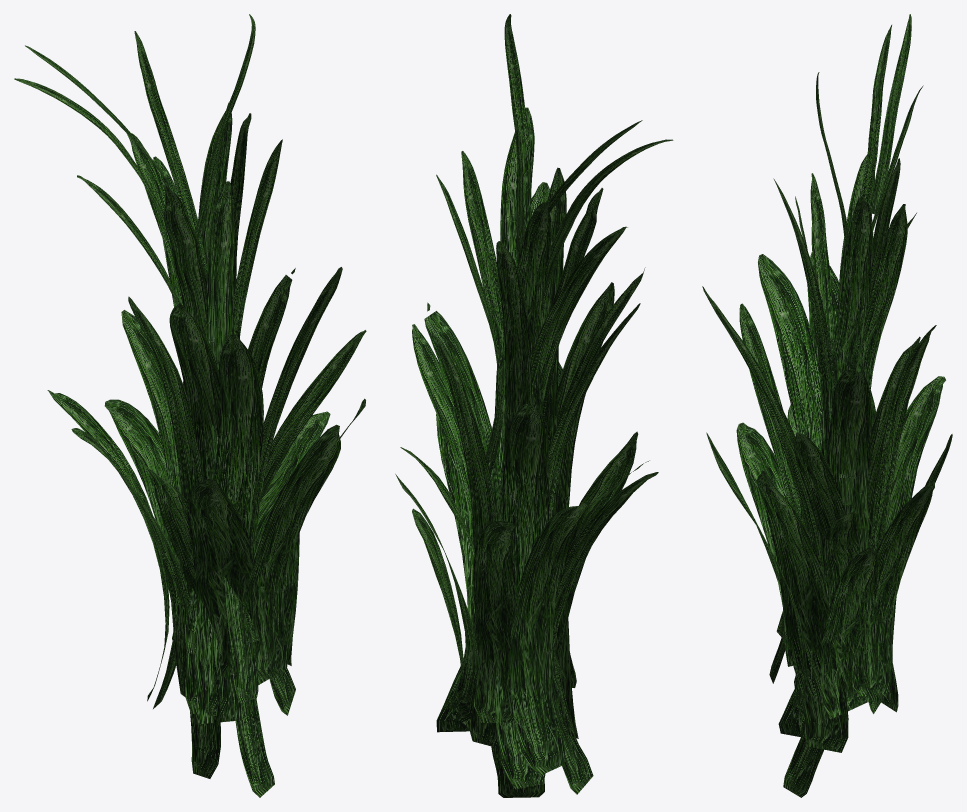
The model's file is reed.gltf.
3 renders of one model, left to right at view 1: azimuth 30°, elevation 25°; view 2: azimuth 150°, elevation 25°; view 3: azimuth 270°, elevation 25°, orthographic. The views are drawn at different scales.
Parts seen in each view (by area): view 1: brush_DoubleTaperedFlat_g0_b0_0; view 2: brush_DoubleTaperedFlat_g0_b0_0; view 3: brush_DoubleTaperedFlat_g0_b0_0.
Boxes of the visible parts, box(x1,y1,x2,y2) form: brush_DoubleTaperedFlat_g0_b0_0: box(14, 14, 366, 797); brush_DoubleTaperedFlat_g0_b0_0: box(395, 14, 673, 797); brush_DoubleTaperedFlat_g0_b0_0: box(702, 14, 952, 797).
Bounding box in the file's own units: 0.5405 × 1.31 × 0.4146.
Materials: 1 (1 with a texture image).
